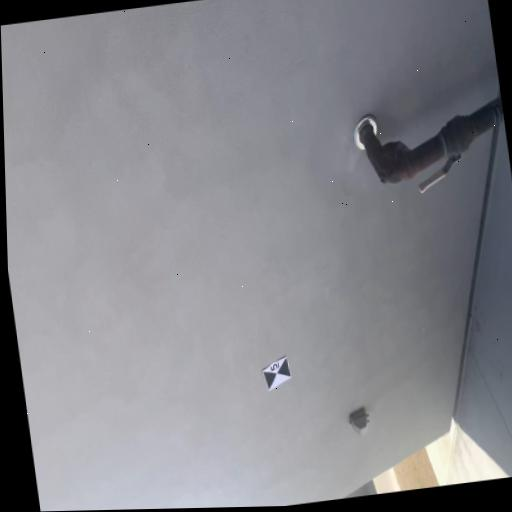target5: (263, 356, 292, 391)
